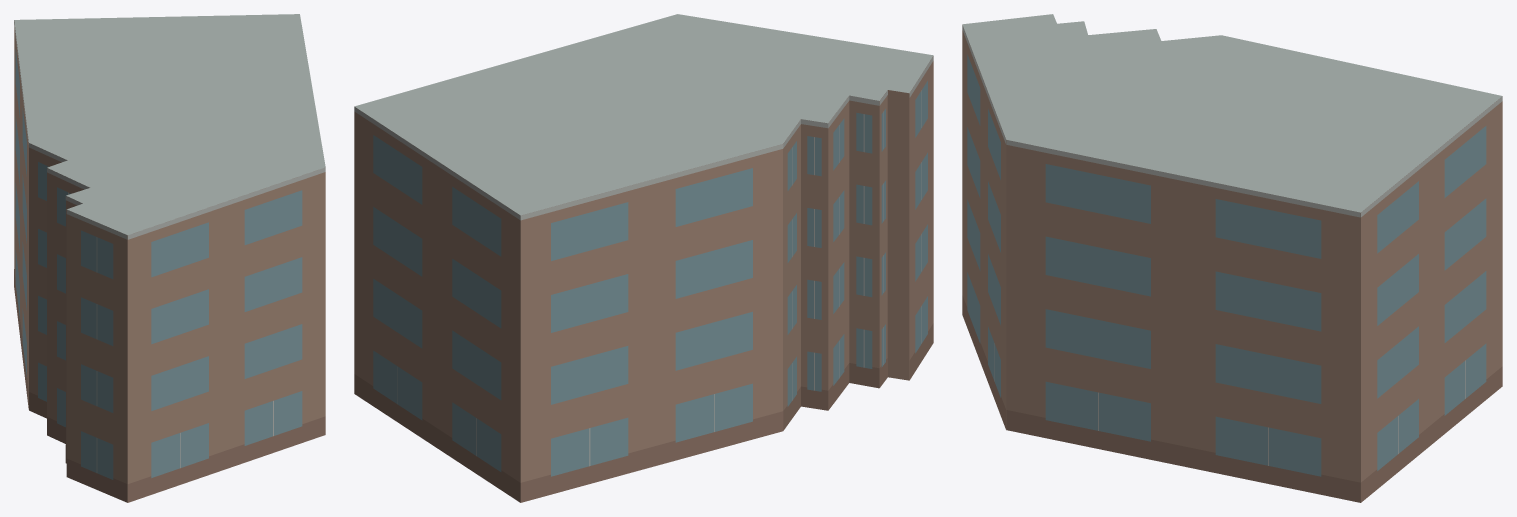
The model's file is survey-upis-32903067.glb.
3 views of the same model, side by side, from view 1: azimuth 30°, elevation 25°; view 2: azimuth 150°, elevation 25°; view 3: azimuth 270°, elevation 25° (orthographic). The views are drawn at different scales.
Parts seen in each view (by area): view 1: survey-upis-32903067.tmp; view 2: survey-upis-32903067.tmp; view 3: survey-upis-32903067.tmp.
Boxes of the visible parts, box(x1,y1,x2,y2) form: survey-upis-32903067.tmp: box(14, 14, 325, 502); survey-upis-32903067.tmp: box(354, 14, 933, 502); survey-upis-32903067.tmp: box(962, 14, 1502, 502).
Size of the model in its own units: 20.79 by 14.16 by 23.9.
